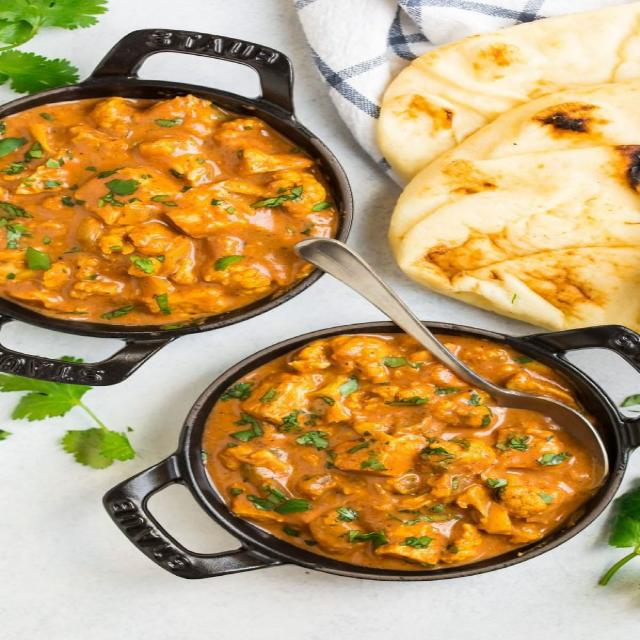Butter Chicken: (190, 334, 600, 574), (0, 95, 336, 325)
